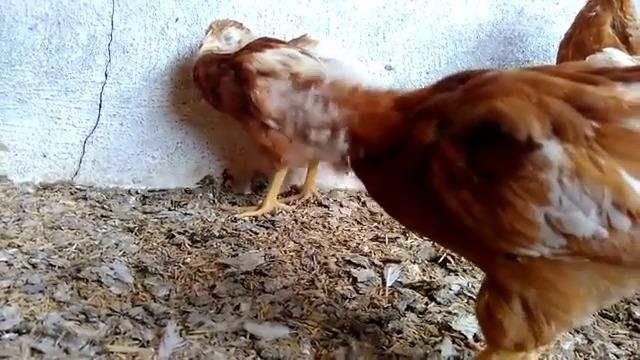AbNormal: (305, 61, 640, 360), (187, 13, 367, 217)
